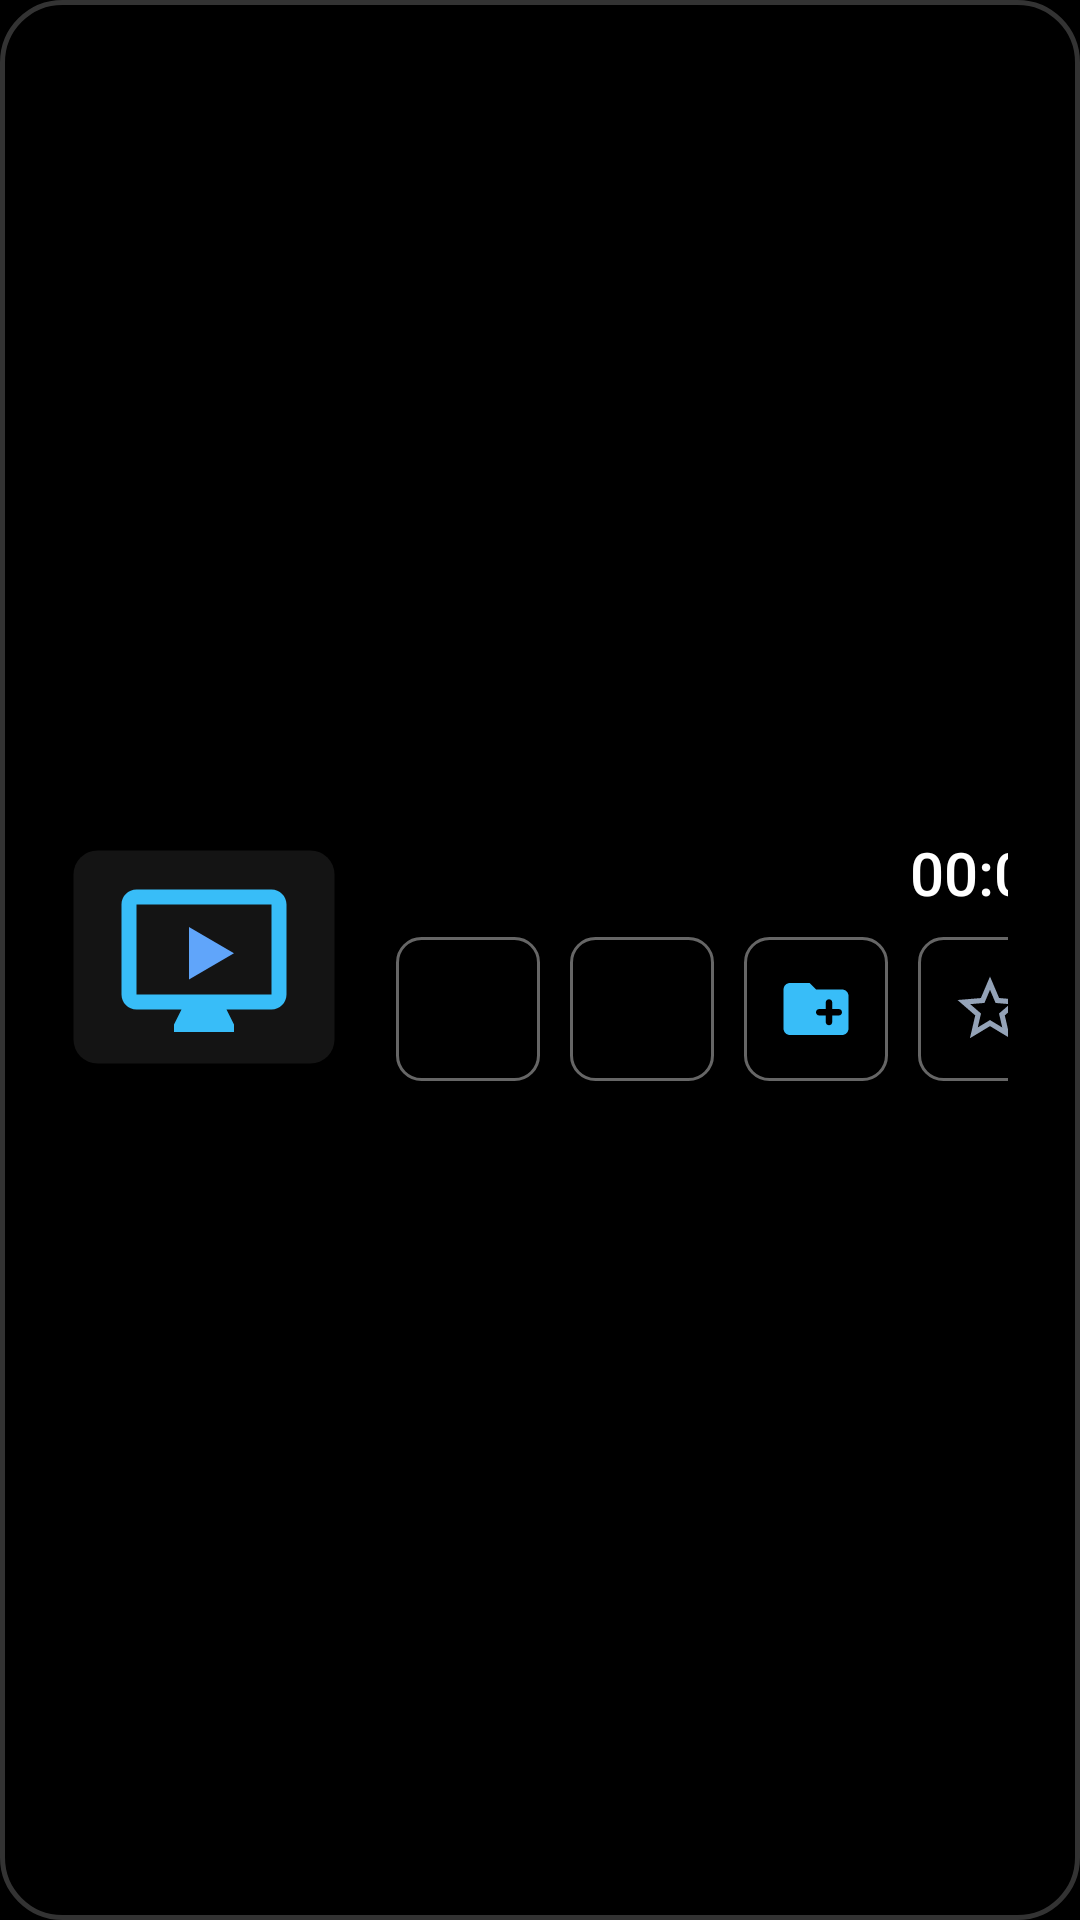

Icon bounding boxes for this 1080 x 1920 phone screenshot, format (x1, y1, x2, y2):
Kategoriye Ekle: (744, 937, 888, 1081)
